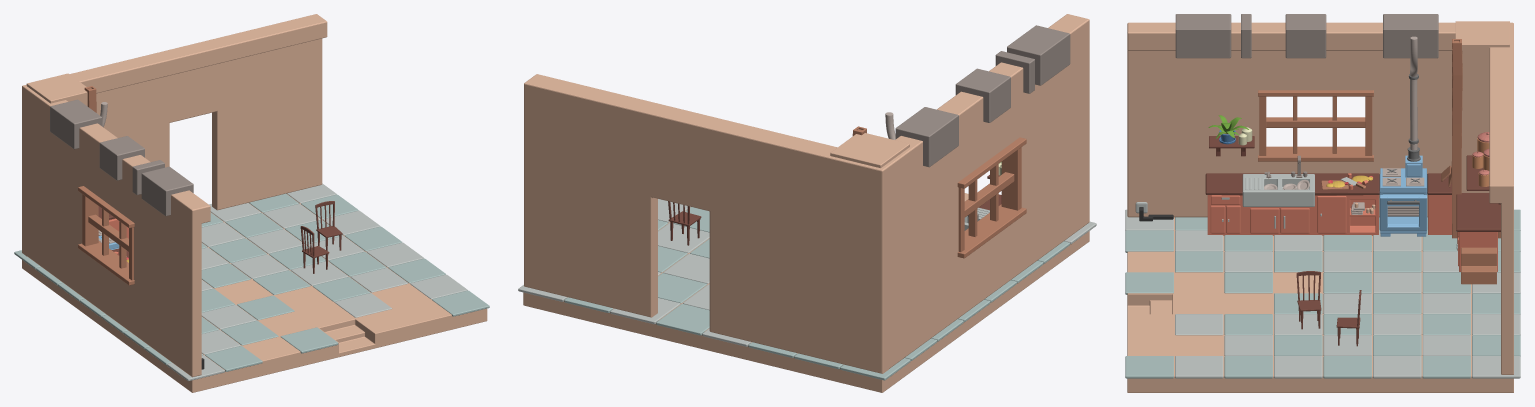
File: Kitchen.fbx
3 views of the same model, side by side, from view 1: azimuth 30°, elevation 25°; view 2: azimuth 150°, elevation 25°; view 3: azimuth 270°, elevation 25° (orthographic). The views are drawn at different scales.
Visible parts, largest first — view 1: Kitchen; view 2: Kitchen; view 3: Kitchen.
Part boxes in pixels (x1,y1,x2,y2): Kitchen: (14,14,489,392); Kitchen: (518,14,1096,392); Kitchen: (1125,14,1520,392).
Bounding box in the file's own units: 615 × 369 × 613.
